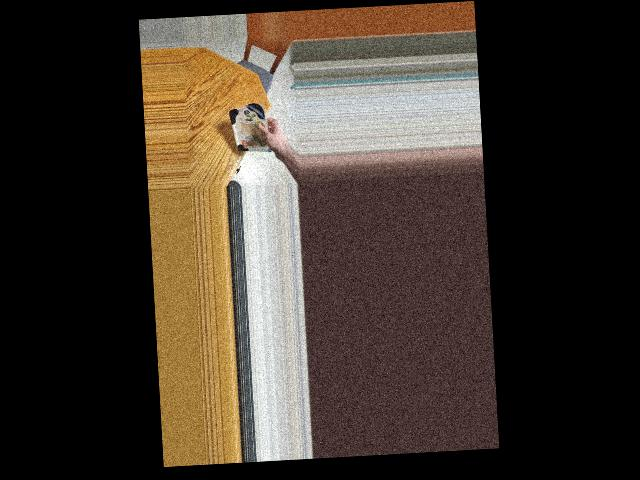cheese: (228, 101, 275, 155)
